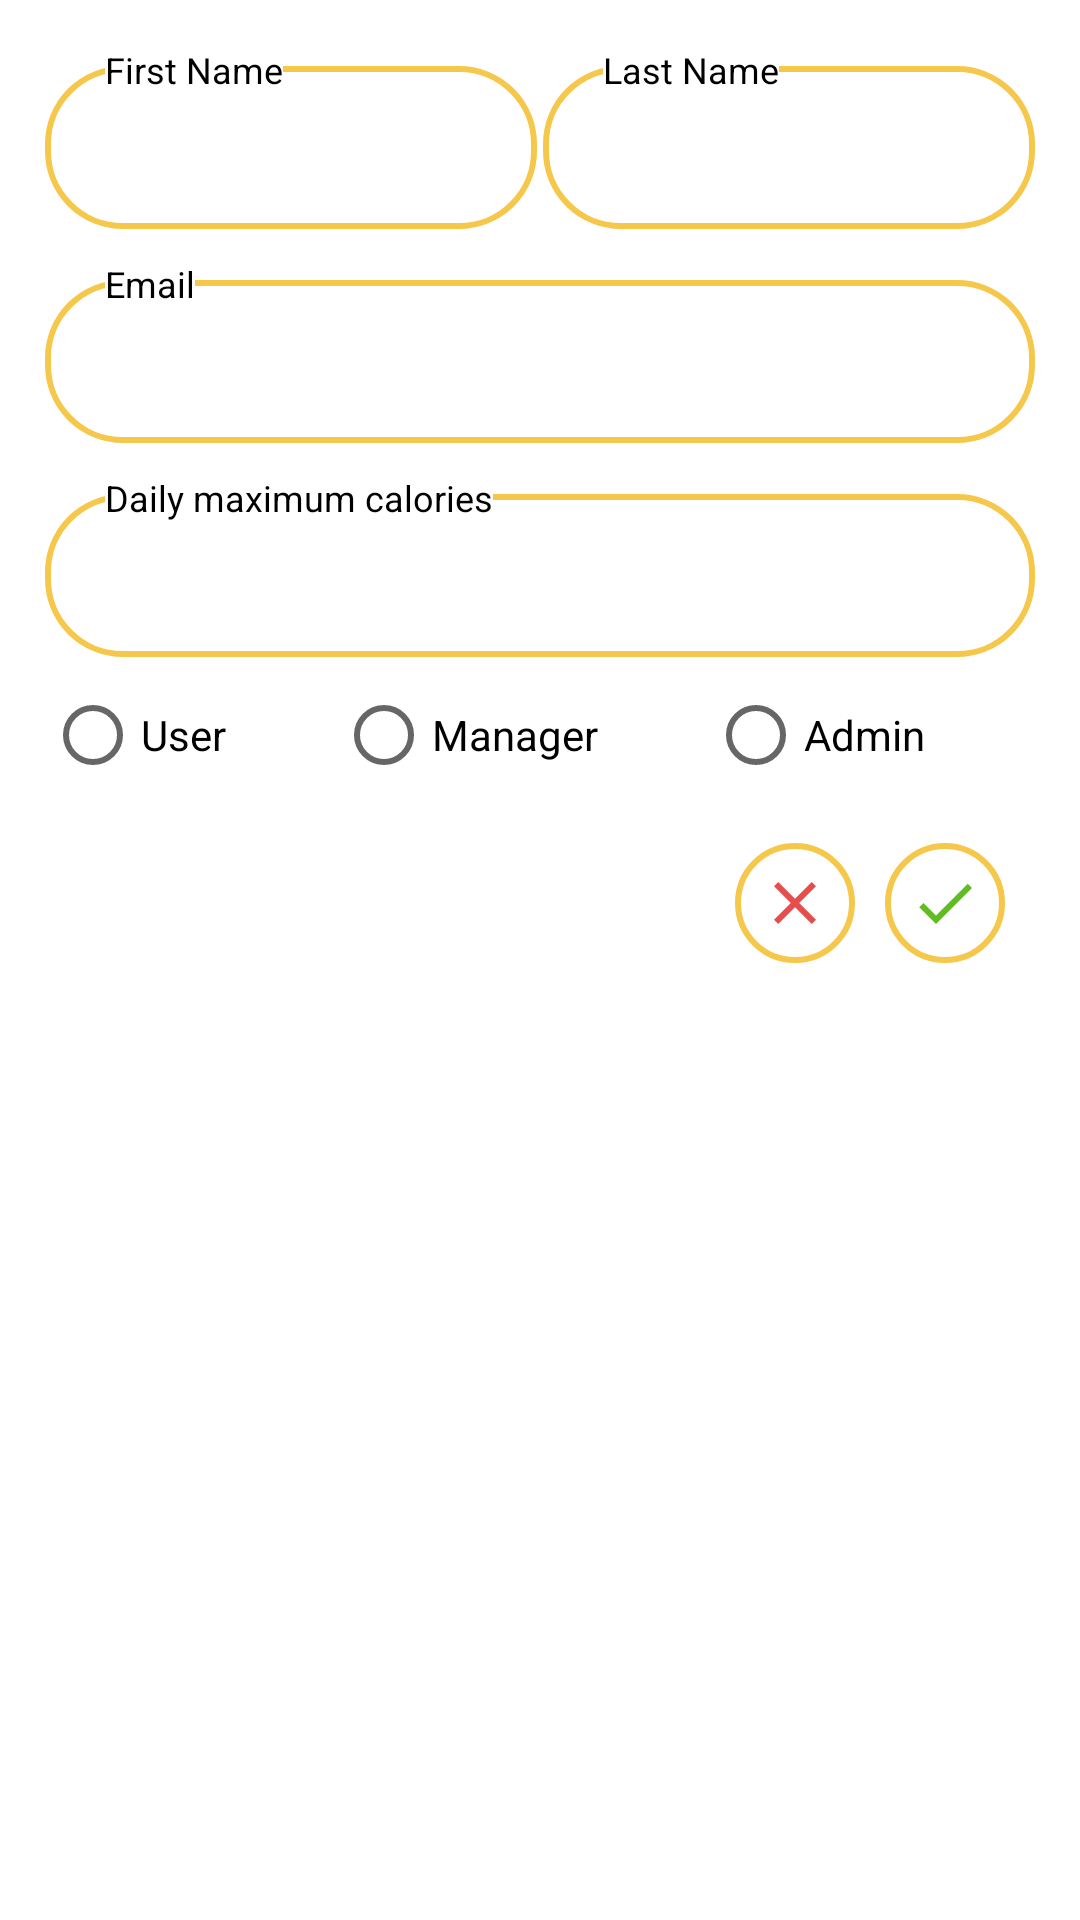

Where to tap for icons on this 1080px×1920px app screen, as (x=x, y=y):
Cancel: (x=795, y=903)
Confirm: (x=945, y=903)
